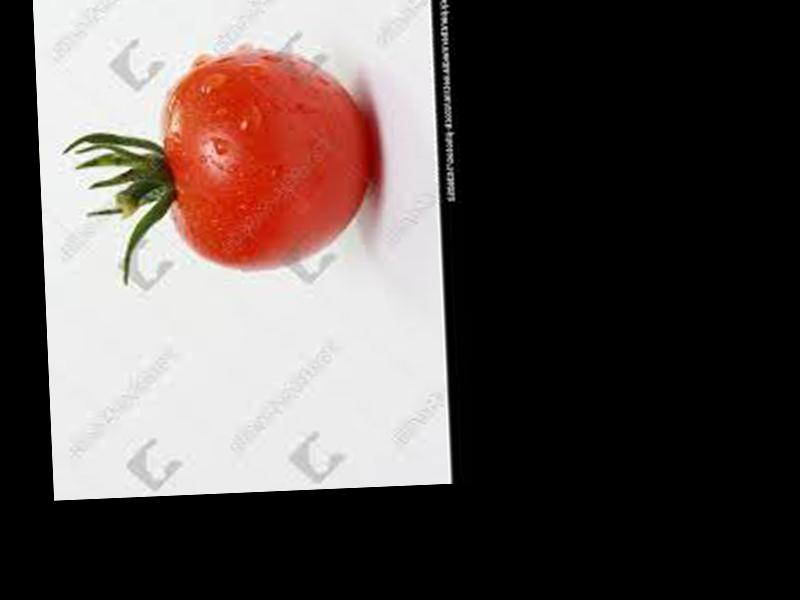Tomato: (162, 46, 375, 274)
